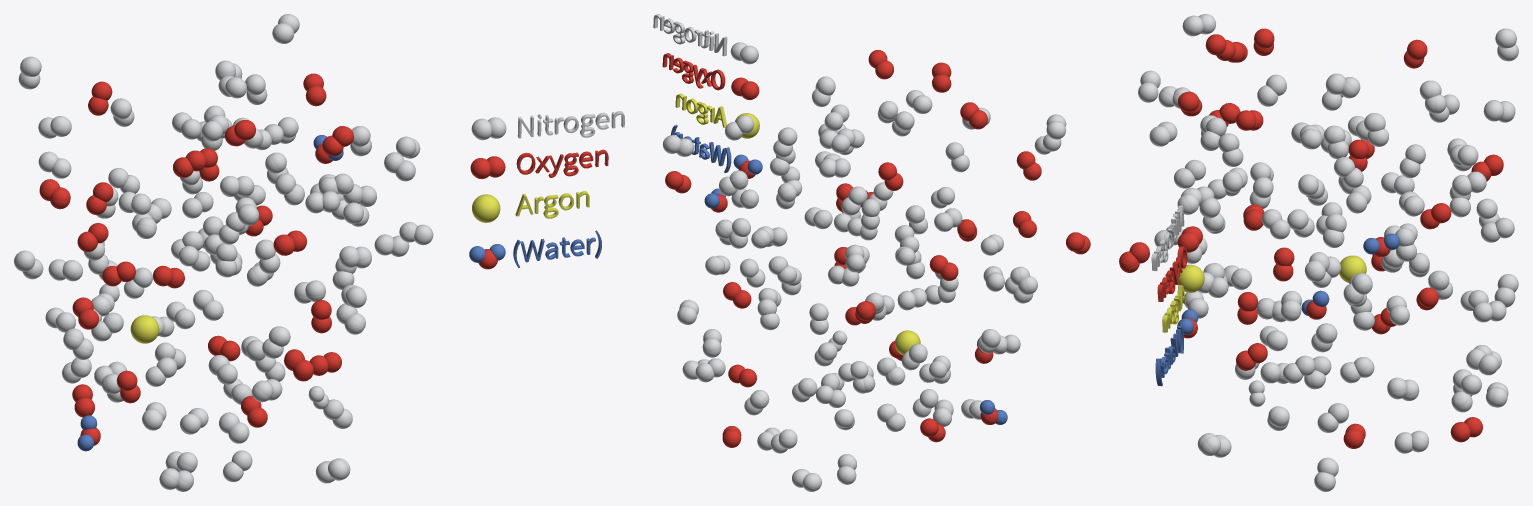
Rendered from what_is_air.glb.
The picture shows the model from 3 angles, left to right: view 1: azimuth 30°, elevation 25°; view 2: azimuth 150°, elevation 25°; view 3: azimuth 270°, elevation 25°; orthographic projection. The views are drawn at different scales.
Parts seen in each view (by area): view 1: t.0624, t.0625, t.0627, t.0626, p.0669, p.0569; view 2: t.0624, t.0625, t.0627, t.0626; view 3: t.0624, t.0627, t.0625, p.0569, t.0626, p.0669.
Boxes of the visible parts, <box> form: t.0624: <box>517,111,624,138</box>; t.0625: <box>516,149,608,177</box>; t.0627: <box>513,230,601,267</box>; t.0626: <box>515,191,589,218</box>; p.0669: <box>130,315,159,343</box>; p.0569: <box>472,194,500,222</box>; t.0624: <box>653,14,727,56</box>; t.0625: <box>662,53,725,90</box>; t.0627: <box>671,124,731,172</box>; t.0626: <box>675,93,726,127</box>; t.0624: <box>1151,205,1184,271</box>; t.0627: <box>1155,326,1183,386</box>; t.0625: <box>1157,246,1187,301</box>; p.0569: <box>1177,264,1204,292</box>; t.0626: <box>1162,285,1185,332</box>; p.0669: <box>1339,255,1366,282</box>.
Bounding box in the file's own units: 0.8688 × 0.6282 × 0.5912.
